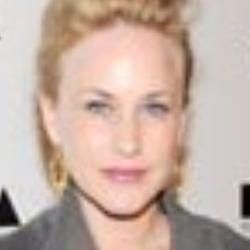face: (16, 1, 217, 227)
